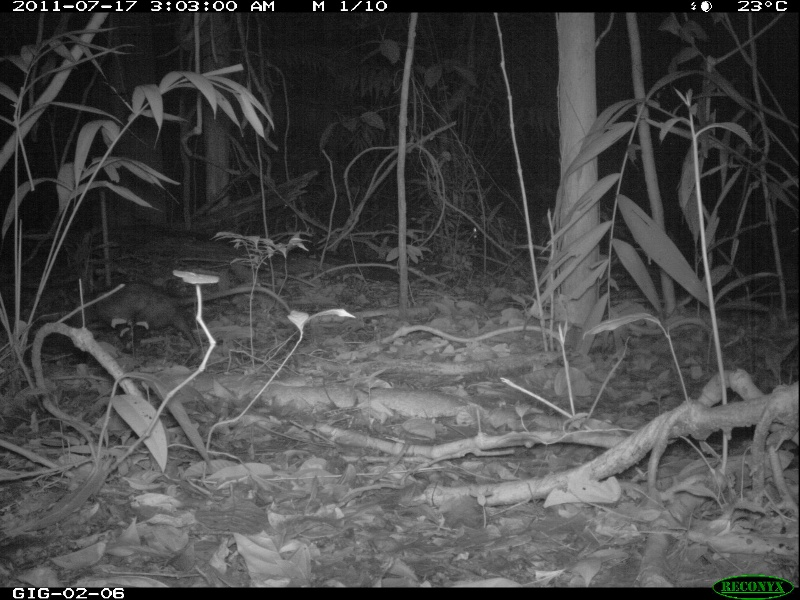opossum: (76, 274, 295, 352)
